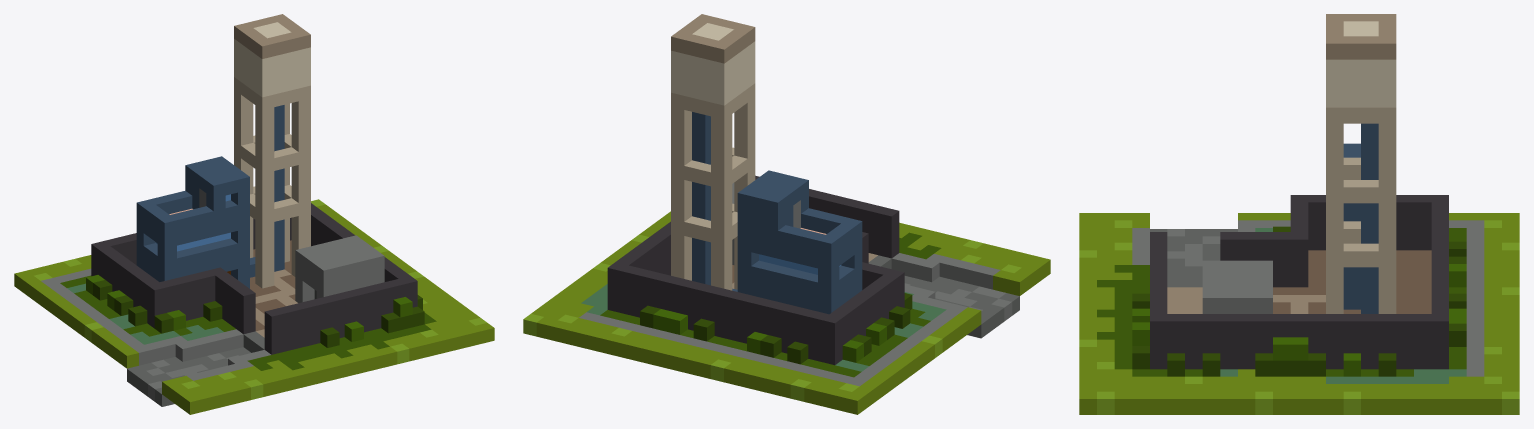
File: build10.obj
The picture shows the model from 3 angles, left to right: view 1: azimuth 30°, elevation 25°; view 2: azimuth 150°, elevation 25°; view 3: azimuth 270°, elevation 25°; orthographic projection. The views are drawn at different scales.
Size of the model in its own units: 25 by 21 by 25.
